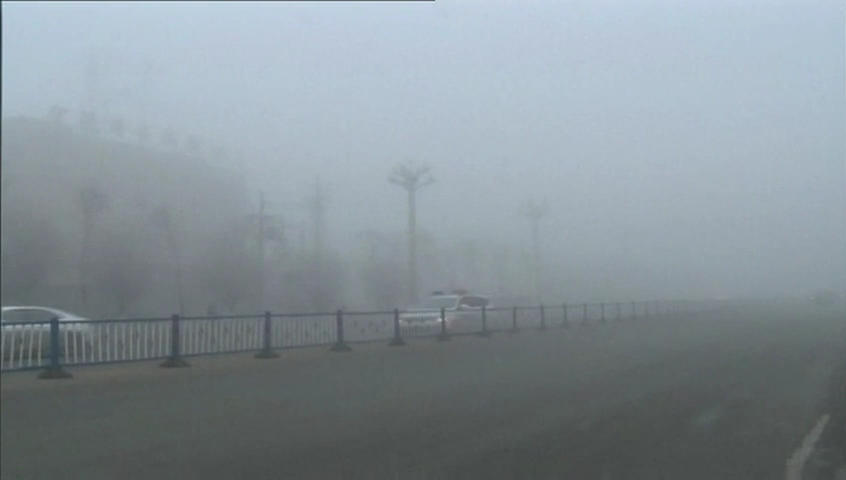car: (1, 303, 96, 370), (396, 290, 497, 333)
